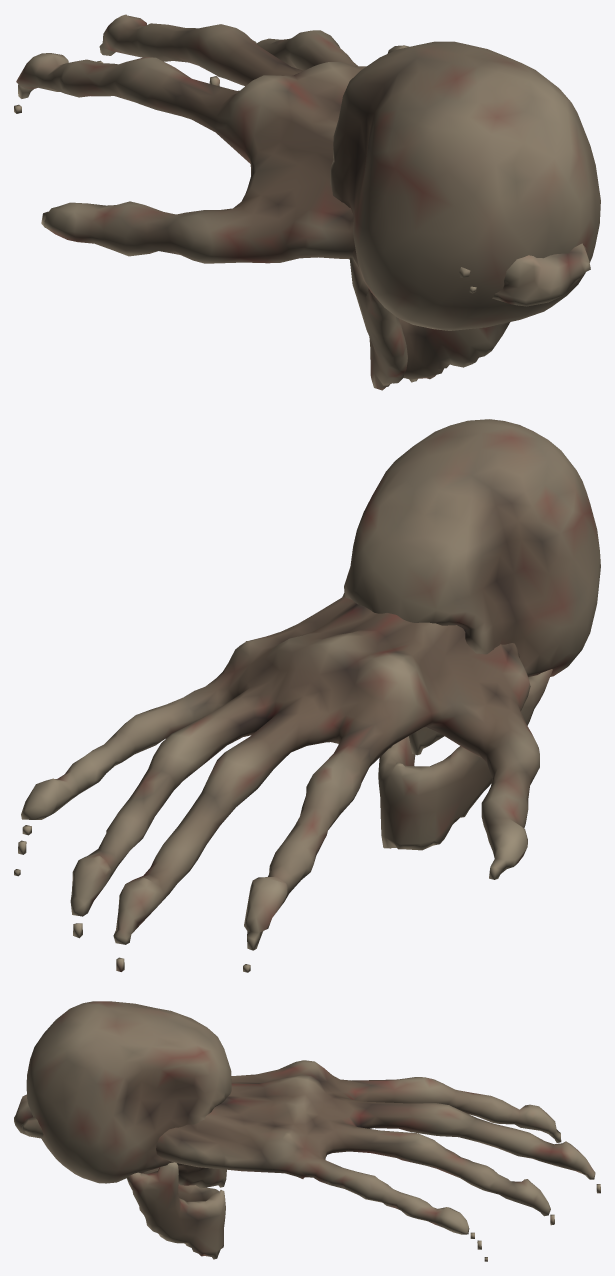
The model's file is mouth_sheath.glb.
3 renders of one model, top to bottom at view 1: azimuth 30°, elevation 25°; view 2: azimuth 150°, elevation 25°; view 3: azimuth 270°, elevation 25°, orthographic. The views are drawn at different scales.
Parts seen in each view (by area): view 1: SkinSkull, SkinHand, SkinJaw; view 2: SkinHand, SkinSkull, SkinJaw; view 3: SkinHand, SkinSkull, SkinJaw.
Boxes of the visible parts, left/top/right/bottom form: SkinSkull: left=330, top=41, right=600, bottom=330; SkinHand: left=14, top=14, right=590, bottom=306; SkinJaw: left=349, top=257, right=510, bottom=390; SkinHand: left=14, top=596, right=539, bottom=972; SkinSkull: left=342, top=419, right=600, bottom=755; SkinJaw: left=378, top=669, right=552, bottom=850; SkinHand: left=14, top=1060, right=600, bottom=1261; SkinSkull: left=26, top=1001, right=231, bottom=1188; SkinJaw: left=126, top=1162, right=225, bottom=1259.
Size of the model in its own units: 0.4729 by 0.3892 by 0.8433.
